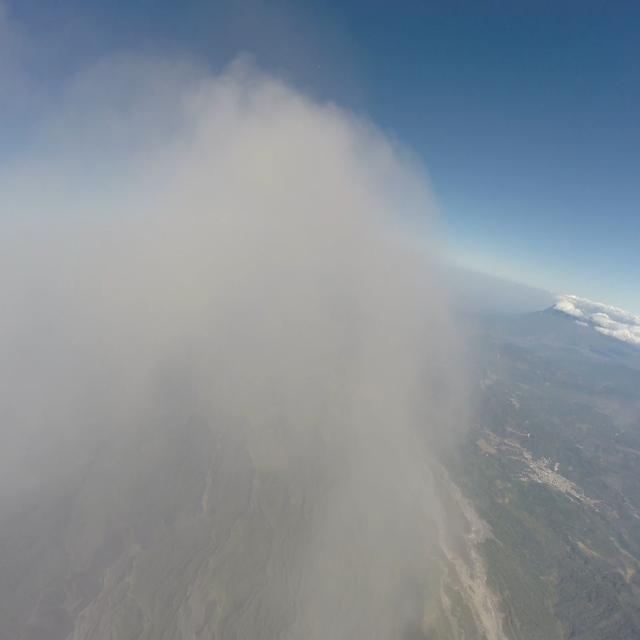Plume: (0, 59, 480, 639)
